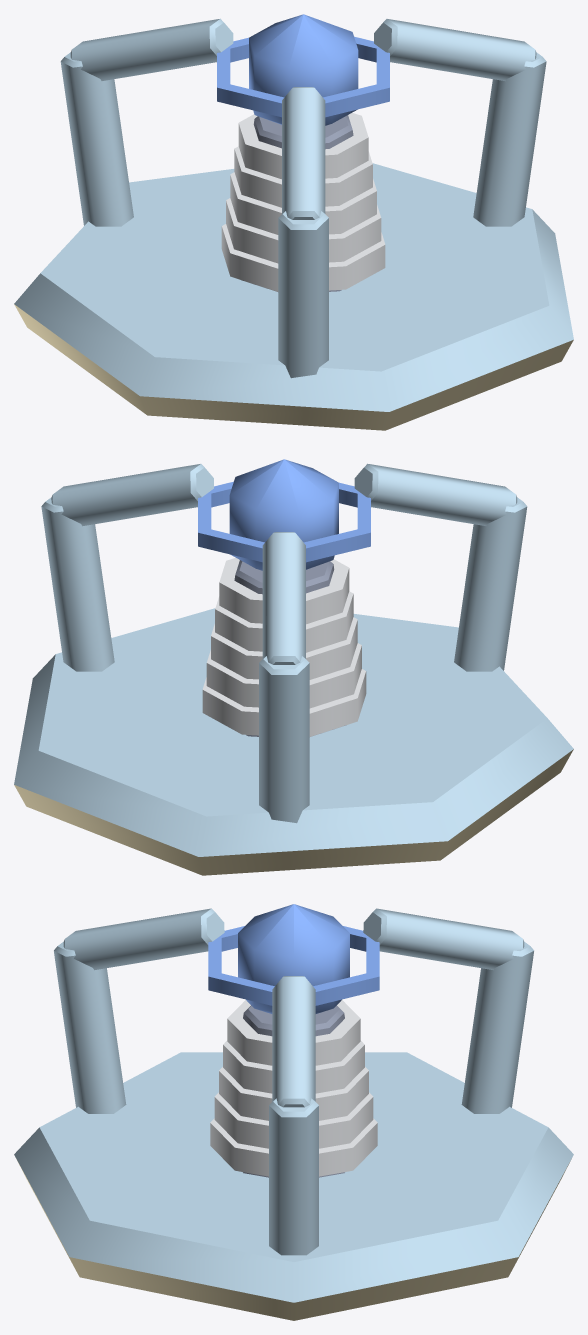
Rendered from R4D_EMPTrap_LOD1.glb.
The picture shows the model from 3 angles, top to bottom: view 1: azimuth 30°, elevation 25°; view 2: azimuth 150°, elevation 25°; view 3: azimuth 270°, elevation 25°; orthographic projection.
Parts seen in each view (by area): view 1: R4D_EMPTrap_LOD1; view 2: R4D_EMPTrap_LOD1; view 3: R4D_EMPTrap_LOD1.
Boxes of the visible parts, <box> form: R4D_EMPTrap_LOD1: <box>14,14,573,430</box>; R4D_EMPTrap_LOD1: <box>14,459,573,875</box>; R4D_EMPTrap_LOD1: <box>14,904,573,1320</box>.
Bounding box in the file's own units: 0.4182 × 0.2545 × 0.429.
